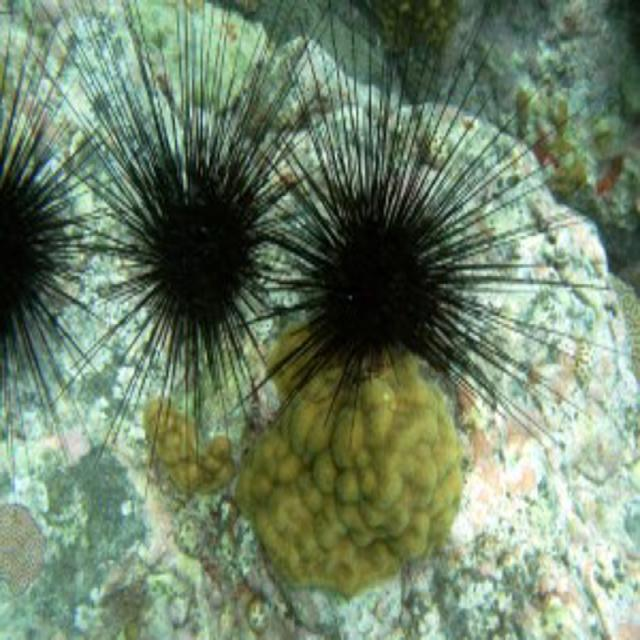Urchin: (239, 55, 591, 417), (76, 11, 319, 409), (1, 53, 90, 415)
